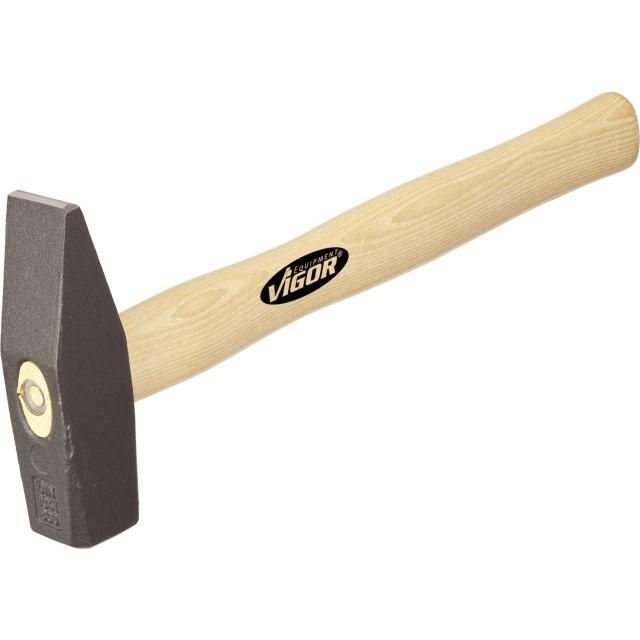hammer: (0, 84, 640, 554)
